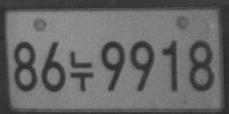1: (160, 40, 186, 91)
6: (40, 42, 66, 92)
8: (188, 39, 215, 92), (13, 40, 38, 92)
9: (129, 40, 156, 91), (100, 40, 125, 92)
누: (70, 50, 93, 92)
